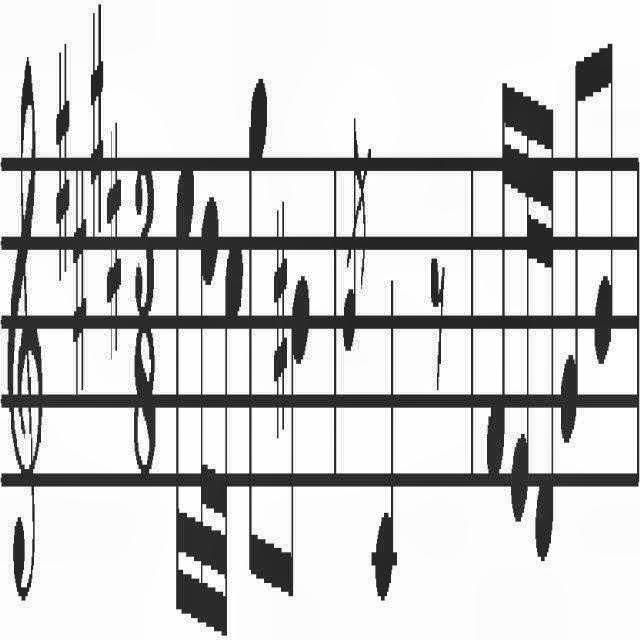Bass-clef: (0, 32, 48, 639)
Diez: (86, 10, 106, 272), (272, 172, 290, 456), (71, 142, 89, 410), (107, 110, 125, 374), (51, 33, 70, 279)
Eighth-note: (245, 45, 269, 602), (558, 48, 582, 448), (590, 32, 614, 376), (289, 262, 311, 614)
Eighth-rest: (429, 236, 446, 396)
Quarter-note: (372, 258, 398, 610)
Sixteenth-note: (480, 69, 512, 495), (172, 154, 196, 636)
